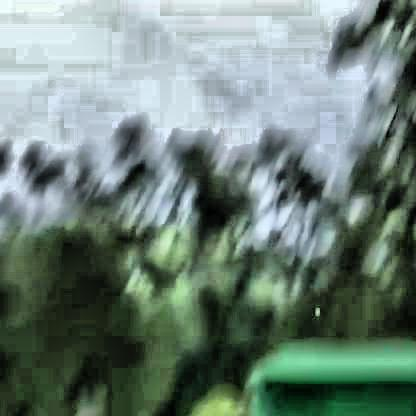golfball: (309, 302, 319, 312)
